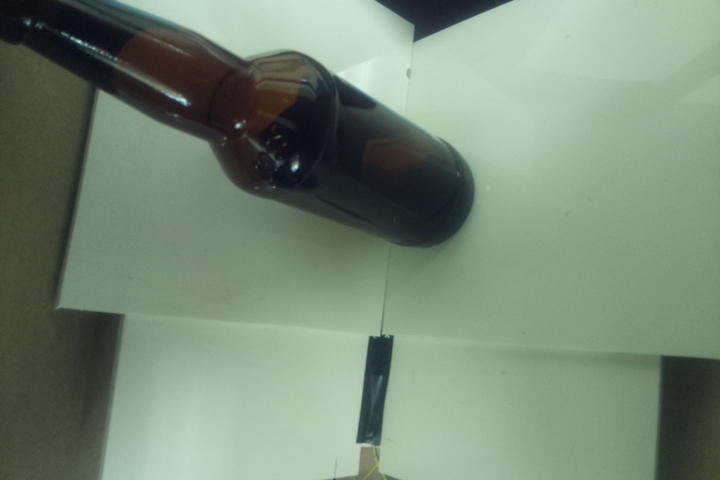makju: (1, 1, 476, 249)
